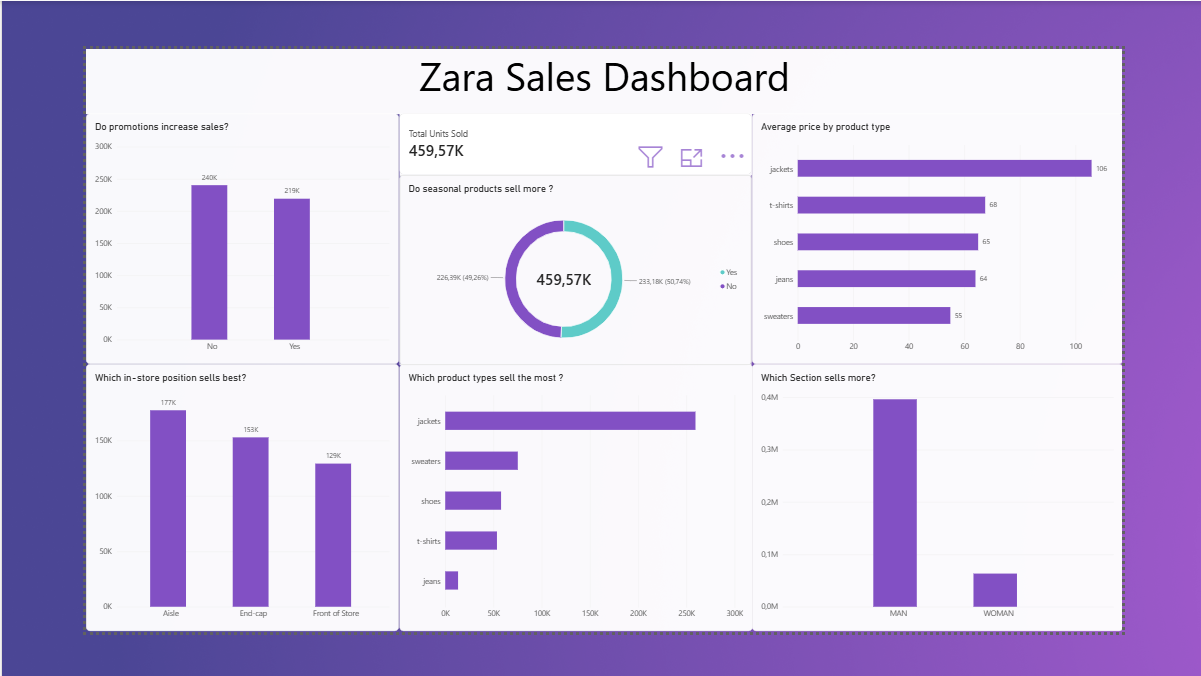

The dashboard page shown, as its layout file describes it:
{"tool":"powerbi","page":{"name":"Page 1","canvas":[1920,1080],"ordinal":0},"visuals":[{"type":"clusteredBarChart","title":"Which product types sell the most ?","fields":{"Category":["zara_project top_selling_product.terms"],"Y":["Sum(zara_project top_selling_product.total_sale)"]},"box":[579.5,584.6,653.8,494.9],"z":0},{"type":"clusteredColumnChart","title":"Do promotions increase sales?","fields":{"Category":["zara_project sales_by_promotion.promotion"],"Y":["Sum(zara_project sales_by_promotion.total_sales)"]},"box":[0,120.5,579.5,464.1],"z":1},{"type":"columnChart","title":"Which in-store position sells best?","fields":{"Category":["zara_project sales_by_position.Product Position"],"Y":["Sum(zara_project sales_by_position.total_sales)"]},"box":[0,584.6,579.5,494.9],"z":2},{"type":"clusteredBarChart","title":"Average price by product type","fields":{"Category":["zara_project avg_price_by_terms.terms"],"Y":["Avg(zara_project avg_price_by_terms.Avg_sales)"]},"box":[1233.3,120.5,687.2,464.1],"z":4},{"type":"clusteredColumnChart","title":"Which Section sells more?","fields":{"Category":["zara_project sales_by_section.section"],"Y":["Sum(zara_project sales_by_section.sum_sales)"]},"box":[1233.3,584.6,687.2,494.9],"z":5},{"type":"textbox","box":[0,0,1920.5,120.5],"z":8},{"type":"cardVisual","fields":{"Data":["Sum(zara_project sales_by_position.total_sales)"]},"box":[580.6,119.4,652.8,113.9],"z":9},{"type":"donutChart","title":"Do seasonal products sell more ?","fields":{"Category":["zara_project sales_by_seasonal.Seasonal"],"Y":["Sum(zara_project sales_by_seasonal.total_sales)"]},"box":[581,233,652,352],"z":10}]}

Visuals, with their boxes in screenshot pixels (x1, y1, x2, y2), scaled from the page's 1920x1080 canvas onto the 1201x676 screenshot:
"Which product types sell the most ?" clusteredBarChart: select_region(362, 366, 771, 675)
"Do promotions increase sales?" clusteredColumnChart: select_region(0, 75, 362, 366)
"Which in-store position sells best?" columnChart: select_region(0, 366, 362, 675)
"Average price by product type" clusteredBarChart: select_region(771, 75, 1200, 366)
"Which Section sells more?" clusteredColumnChart: select_region(771, 366, 1200, 675)
textbox: select_region(0, 0, 1200, 75)
cardVisual - Sum(zara_project sales_by_position.total_sales): select_region(363, 75, 772, 146)
"Do seasonal products sell more ?" donutChart: select_region(363, 146, 771, 366)
